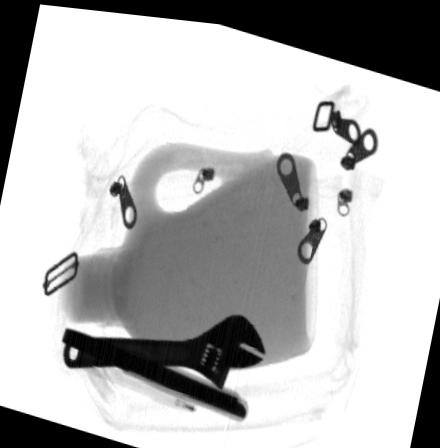Pliers: (58, 326, 245, 413)
Wrench: (60, 306, 267, 385)
